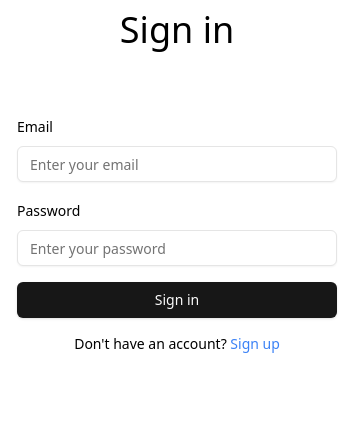
Test: Login page › Validation › should show error message when credentials are empty
Click the submit button at (177, 300), box [17,282,337,318]
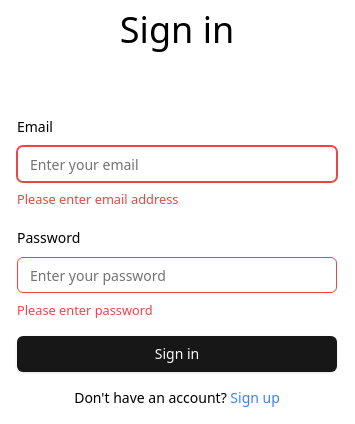
Result: the text "Please enter email address" is shown at [17,190,178,208]
Result: the text "Please enter password" is shown at [17,301,153,319]
